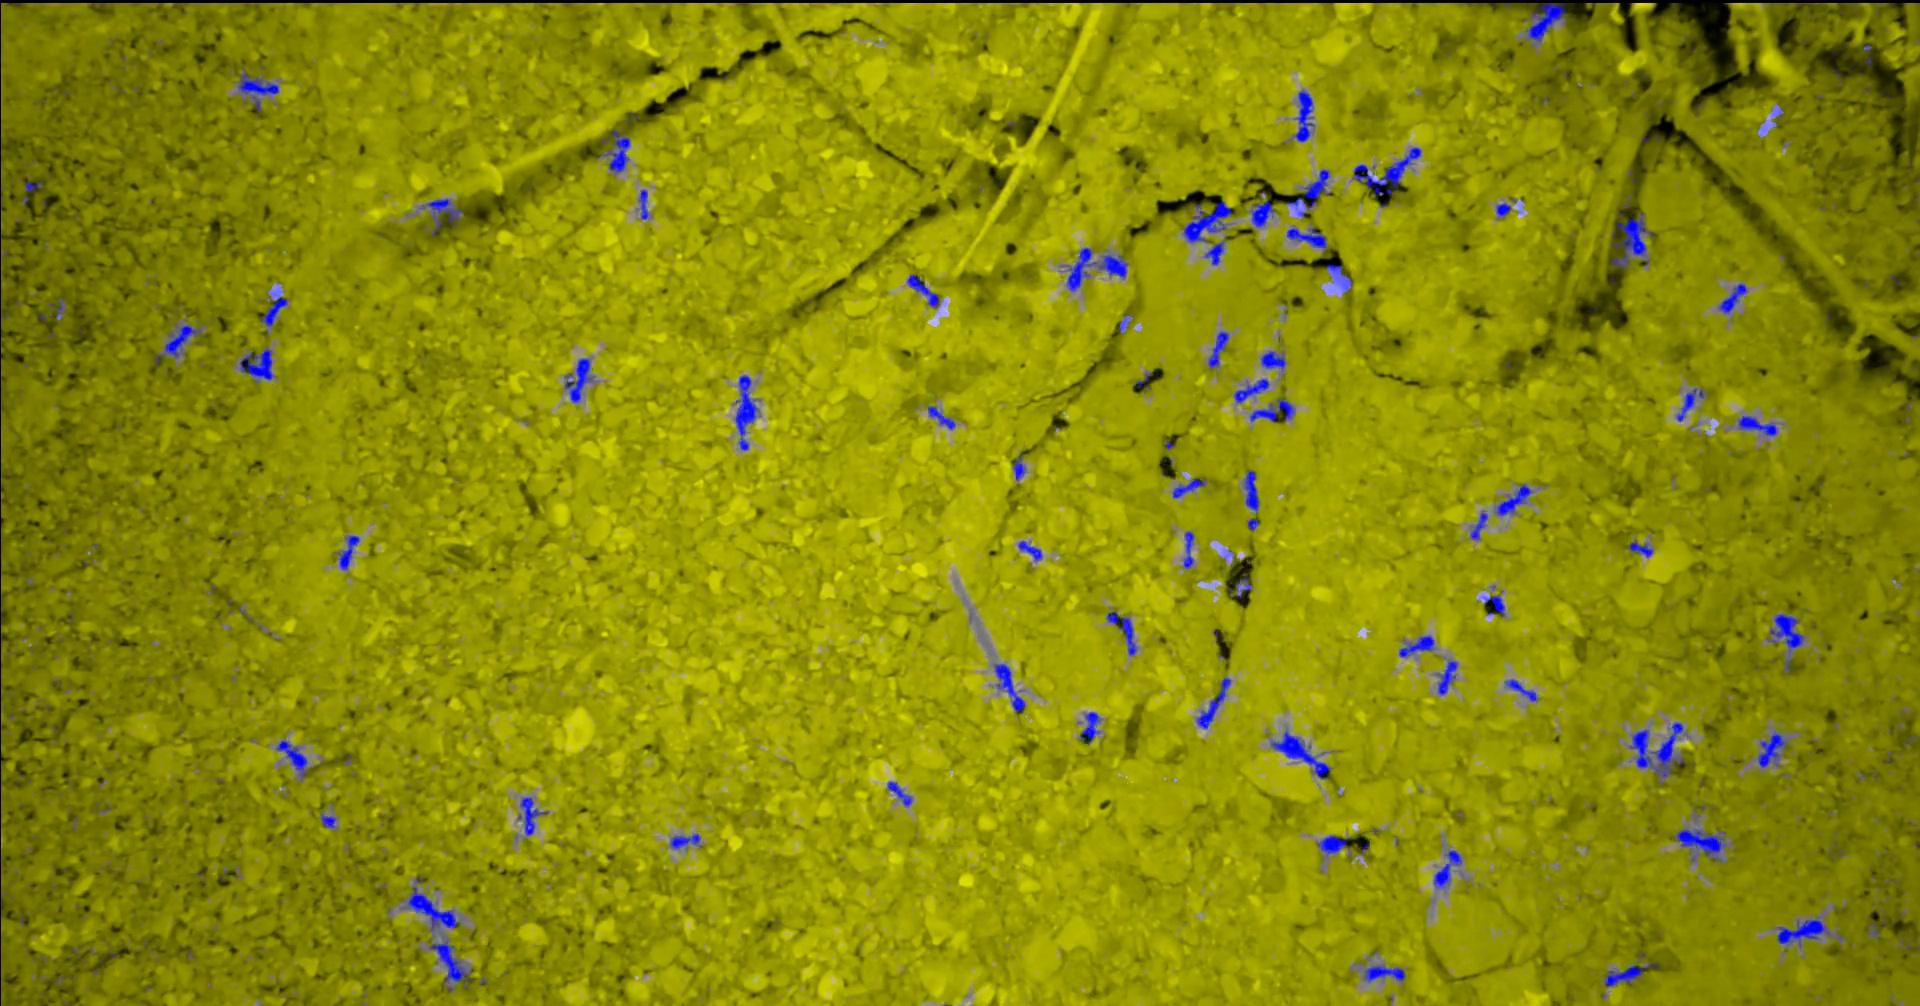ant: (1354, 147, 1422, 196), (1272, 730, 1332, 779), (1068, 246, 1129, 291), (1611, 212, 1657, 268), (430, 935, 475, 988), (405, 887, 460, 930), (1769, 614, 1804, 672), (1183, 201, 1233, 243), (157, 324, 202, 365), (1288, 169, 1331, 210), (1197, 677, 1232, 728), (1675, 828, 1727, 861), (737, 375, 759, 450), (420, 198, 465, 235), (1778, 916, 1831, 946), (239, 71, 279, 111), (996, 663, 1027, 713), (1528, 3, 1568, 41), (1107, 611, 1138, 655), (1606, 962, 1661, 986), (566, 358, 596, 401), (602, 130, 631, 171), (1496, 483, 1533, 514), (1759, 730, 1789, 767), (278, 741, 309, 777), (519, 796, 549, 835), (1288, 225, 1328, 251), (1295, 89, 1316, 141), (908, 274, 940, 307), (1251, 398, 1297, 420), (1435, 850, 1463, 887), (241, 348, 274, 379), (1677, 387, 1705, 420), (263, 293, 290, 326), (1719, 283, 1749, 312), (1236, 379, 1271, 401), (1209, 332, 1230, 368), (1399, 635, 1436, 657), (1740, 415, 1778, 436), (1327, 263, 1352, 292), (1506, 680, 1539, 701), (1252, 199, 1277, 227), (340, 535, 361, 569), (1439, 659, 1459, 694), (1081, 711, 1102, 743), (930, 405, 957, 429), (1244, 470, 1260, 513), (1365, 965, 1407, 981), (1319, 835, 1352, 854), (889, 781, 913, 807), (1175, 478, 1206, 497), (1470, 511, 1490, 539), (1230, 575, 1253, 598), (1018, 540, 1044, 560), (1262, 351, 1288, 370), (670, 833, 702, 848), (1629, 540, 1655, 558), (1486, 594, 1506, 616), (1206, 241, 1225, 264), (1185, 531, 1195, 568), (1015, 453, 1027, 480), (640, 189, 650, 218), (1, 290, 9, 328), (1137, 372, 1153, 387), (57, 297, 67, 319), (1497, 202, 1512, 216), (323, 813, 337, 827), (25, 180, 44, 191)
